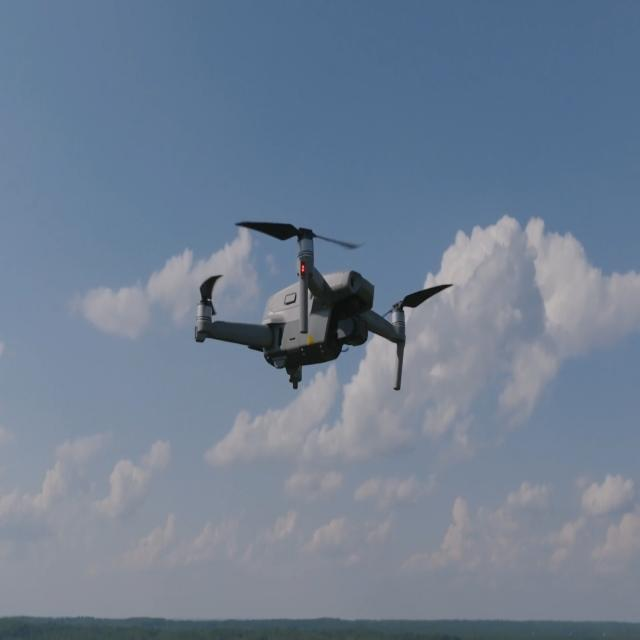Drone: (198, 225, 433, 394)
